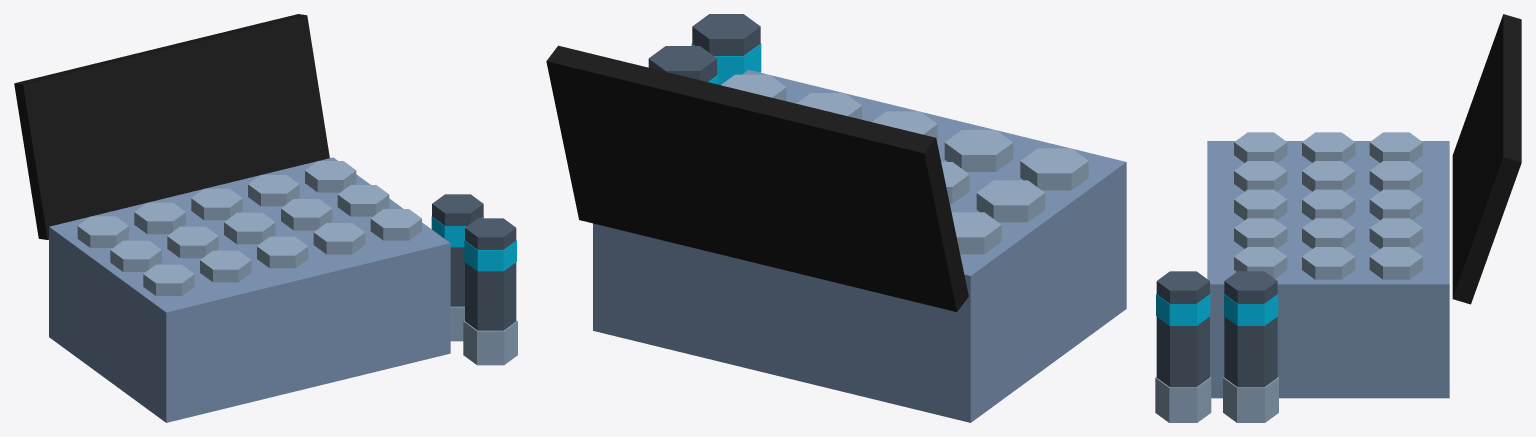
Rendered from ce_ammo_shotgun_emp_c.obj.
3 views of the same model, side by side, from view 1: azimuth 30°, elevation 25°; view 2: azimuth 150°, elevation 25°; view 3: azimuth 270°, elevation 25° (orthographic). The views are drawn at different scales.
Visible parts, largest first — view 1: ce_ammo_shotgun_emp_c_0, ce_ammo_shotgun_emp_c_16, ce_ammo_shotgun_emp_c_18, ce_ammo_shotgun_emp_c_21, ce_ammo_shotgun_emp_c_17, ce_ammo_shotgun_emp_c_7, ce_ammo_shotgun_emp_c_4, ce_ammo_shotgun_emp_c_10, ce_ammo_shotgun_emp_c_1, ce_ammo_shotgun_emp_c_6, ce_ammo_shotgun_emp_c_8, ce_ammo_shotgun_emp_c_13 (+11 smaller); view 2: ce_ammo_shotgun_emp_c_0, ce_ammo_shotgun_emp_c_16, ce_ammo_shotgun_emp_c_2, ce_ammo_shotgun_emp_c_1, ce_ammo_shotgun_emp_c_4, ce_ammo_shotgun_emp_c_18, ce_ammo_shotgun_emp_c_21, ce_ammo_shotgun_emp_c_3, ce_ammo_shotgun_emp_c_7, ce_ammo_shotgun_emp_c_13, ce_ammo_shotgun_emp_c_10, ce_ammo_shotgun_emp_c_19 (+1 smaller); view 3: ce_ammo_shotgun_emp_c_0, ce_ammo_shotgun_emp_c_16, ce_ammo_shotgun_emp_c_18, ce_ammo_shotgun_emp_c_21, ce_ammo_shotgun_emp_c_17, ce_ammo_shotgun_emp_c_20, ce_ammo_shotgun_emp_c_14, ce_ammo_shotgun_emp_c_15, ce_ammo_shotgun_emp_c_7, ce_ammo_shotgun_emp_c_8, ce_ammo_shotgun_emp_c_9, ce_ammo_shotgun_emp_c_5 (+11 smaller).
Part boxes in pixels (x1,y1,x2,y2): ce_ammo_shotgun_emp_c_0: (49,157,450,422); ce_ammo_shotgun_emp_c_16: (14,14,329,239); ce_ammo_shotgun_emp_c_18: (465,218,516,330); ce_ammo_shotgun_emp_c_21: (432,194,483,306); ce_ammo_shotgun_emp_c_17: (463,320,517,365); ce_ammo_shotgun_emp_c_7: (257,236,308,268); ce_ammo_shotgun_emp_c_4: (200,250,251,282); ce_ammo_shotgun_emp_c_10: (313,223,365,254); ce_ammo_shotgun_emp_c_1: (143,264,194,295); ce_ammo_shotgun_emp_c_6: (134,202,185,234); ce_ammo_shotgun_emp_c_8: (224,212,275,244); ce_ammo_shotgun_emp_c_13: (370,209,421,240); ce_ammo_shotgun_emp_c_0: (593,70,1126,422); ce_ammo_shotgun_emp_c_16: (546,45,968,311); ce_ammo_shotgun_emp_c_2: (976,180,1045,222); ce_ammo_shotgun_emp_c_1: (1020,148,1088,190); ce_ammo_shotgun_emp_c_4: (944,130,1013,171); ce_ammo_shotgun_emp_c_18: (692,14,760,84); ce_ammo_shotgun_emp_c_21: (648,46,716,81); ce_ammo_shotgun_emp_c_3: (951,212,1001,254); ce_ammo_shotgun_emp_c_7: (872,111,937,140); ce_ammo_shotgun_emp_c_13: (721,74,786,100); ce_ammo_shotgun_emp_c_10: (796,93,861,119); ce_ammo_shotgun_emp_c_19: (691,43,761,84); ce_ammo_shotgun_emp_c_0: (1207,141,1449,398); ce_ammo_shotgun_emp_c_16: (1452,14,1521,304); ce_ammo_shotgun_emp_c_18: (1156,271,1209,387); ce_ammo_shotgun_emp_c_21: (1224,271,1277,387); ce_ammo_shotgun_emp_c_17: (1155,377,1211,422); ce_ammo_shotgun_emp_c_20: (1223,377,1278,422); ce_ammo_shotgun_emp_c_14: (1302,247,1355,279); ce_ammo_shotgun_emp_c_15: (1369,247,1422,279); ce_ammo_shotgun_emp_c_7: (1234,189,1287,220); ce_ammo_shotgun_emp_c_8: (1302,189,1355,220); ce_ammo_shotgun_emp_c_9: (1369,189,1422,220); ce_ammo_shotgun_emp_c_5: (1302,161,1355,191).
Size of the model in its own units: 0.8202 by 0.5495 by 0.7571.
